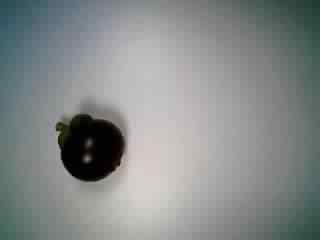mangosteen: (51, 97, 128, 183)
